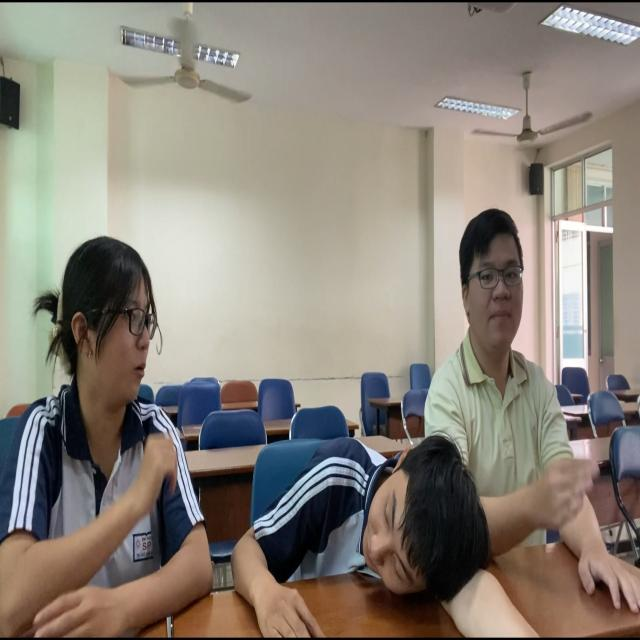sleep: (236, 432, 505, 640)
